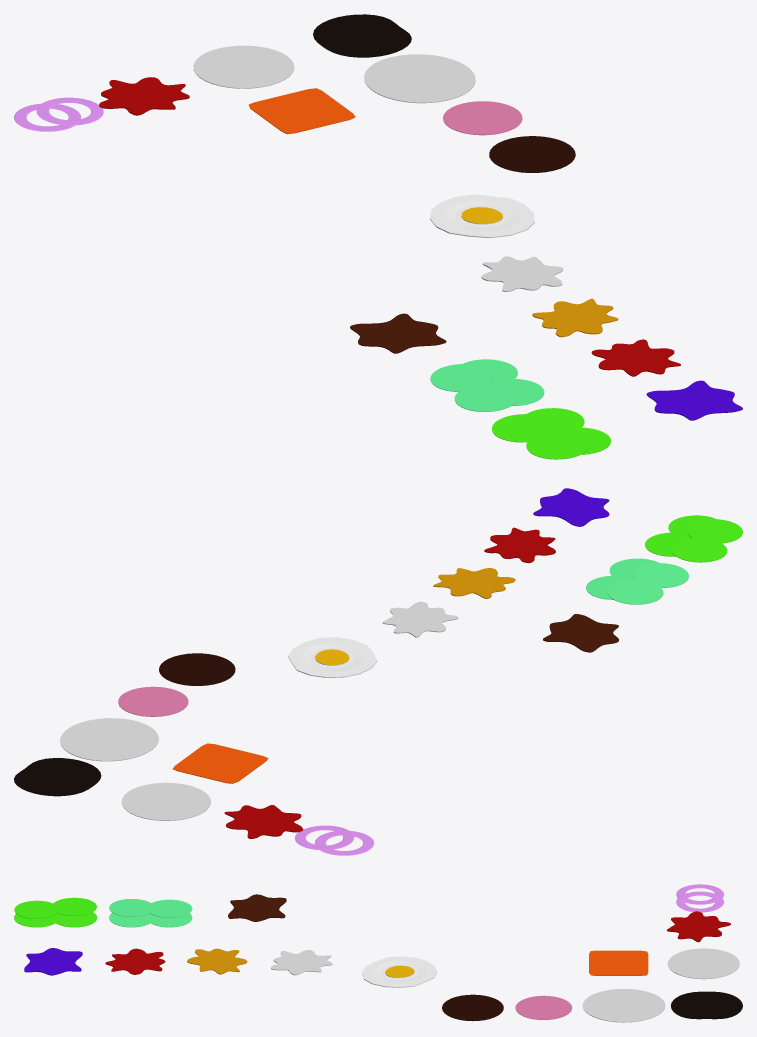
The model's file is MakeSandwichDemoIngredients.FBX.
The picture shows the model from 3 angles, top to bottom: view 1: azimuth 30°, elevation 25°; view 2: azimuth 150°, elevation 25°; view 3: azimuth 270°, elevation 25°; orthographic projection. The views are drawn at different scales.
Visible parts, largest first — view 1: pasted__WhiteCircle2, pasted__Kiwis, pasted__Pickles, pasted__Egg, pasted__WhiteCircle1, pasted__BrownCircle, pasted__Plane, pasted__Pastrami, pasted__BarbQ, pasted__Jelly, pasted__Lettuce2, pasted__Balogna (+4 smaller); view 2: pasted__WhiteCircle2, pasted__Pickles, pasted__Kiwis, pasted__Egg, pasted__WhiteCircle1, pasted__BrownCircle, pasted__Plane, pasted__Pastrami, pasted__Jelly, pasted__BarbQ, pasted__Lettuce2, pasted__Balogna (+4 smaller); view 3: pasted__WhiteCircle2, pasted__Pickles, pasted__Kiwis, pasted__Egg, pasted__WhiteCircle1, pasted__BrownCircle, pasted__Plane, pasted__Pastrami, pasted__Jelly, pasted__BarbQ, pasted__Lettuce2, pasted__Balogna (+4 smaller).
Part boxes in pixels (left/top/right/bottom): pasted__WhiteCircle2: left=364, top=54, right=475, bottom=103; pasted__Kiwis: left=492, top=408, right=610, bottom=459; pasted__Pickles: left=430, top=359, right=544, bottom=411; pasted__Egg: left=430, top=194, right=534, bottom=238; pasted__WhiteCircle1: left=193, top=45, right=294, bottom=88; pasted__BrownCircle: left=313, top=14, right=411, bottom=57; pasted__Plane: left=249, top=88, right=355, bottom=134; pasted__Pastrami: left=489, top=136, right=575, bottom=172; pasted__BarbQ: left=350, top=313, right=446, bottom=353; pasted__Jelly: left=646, top=380, right=742, bottom=420; pasted__Lettuce2: left=99, top=77, right=189, bottom=115; pasted__Balogna: left=443, top=101, right=522, bottom=135; pasted__WhiteCircle2: left=60, top=718, right=158, bottom=761; pasted__Pickles: left=586, top=558, right=688, bottom=604; pasted__Kiwis: left=645, top=515, right=742, bottom=562; pasted__Egg: left=288, top=637, right=377, bottom=677; pasted__WhiteCircle1: left=121, top=782, right=210, bottom=820; pasted__BrownCircle: left=14, top=758, right=101, bottom=796; pasted__Plane: left=172, top=743, right=268, bottom=783; pasted__Pastrami: left=159, top=653, right=235, bottom=685; pasted__Jelly: left=533, top=488, right=609, bottom=526; pasted__BarbQ: left=543, top=614, right=618, bottom=652; pasted__Lettuce2: left=224, top=805, right=303, bottom=838; pasted__Balogna: left=118, top=686, right=188, bottom=716; pasted__WhiteCircle2: left=582, top=989, right=665, bottom=1022; pasted__Pickles: left=109, top=899, right=192, bottom=927; pasted__Kiwis: left=14, top=897, right=97, bottom=927; pasted__Egg: left=362, top=956, right=436, bottom=987; pasted__WhiteCircle1: left=667, top=948, right=739, bottom=979; pasted__BrownCircle: left=671, top=991, right=742, bottom=1019; pasted__Plane: left=589, top=950, right=648, bottom=975; pasted__Pastrami: left=442, top=994, right=503, bottom=1021; pasted__Jelly: left=24, top=948, right=82, bottom=975; pasted__BarbQ: left=228, top=894, right=286, bottom=921; pasted__Lettuce2: left=666, top=911, right=730, bottom=942; pasted__Balogna: left=515, top=995, right=572, bottom=1019.
Size of the model in its own units: 1.87 by 0.0115 by 4.18.
